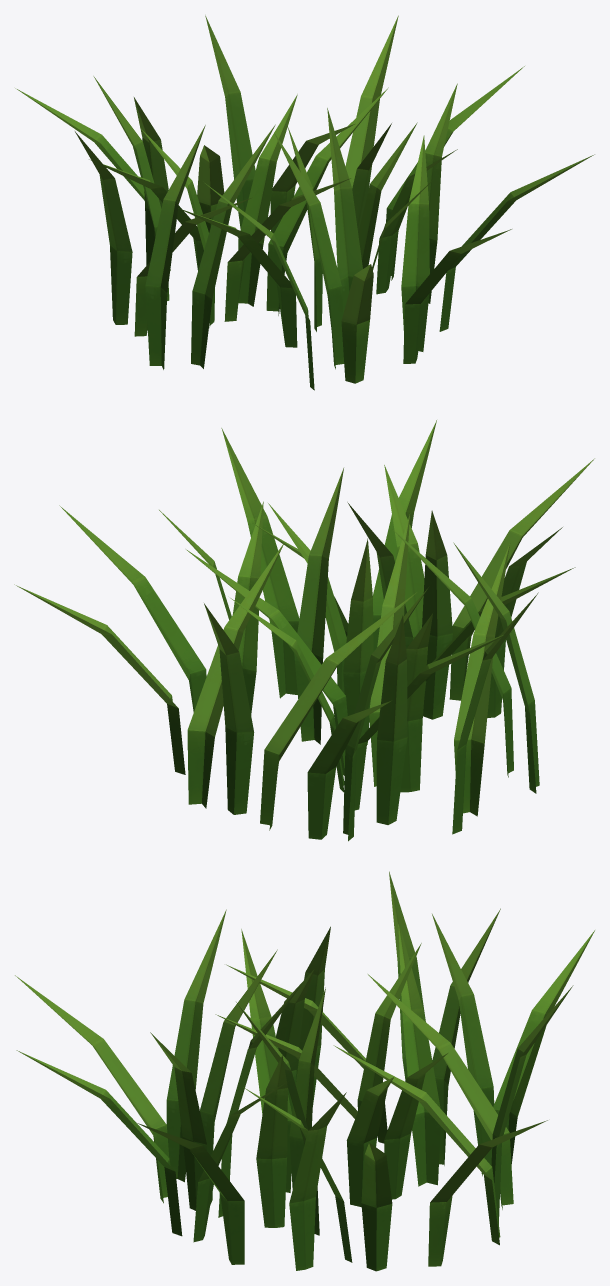
Rendered from GrassLarge1.fbx.
3 renders of one model, top to bottom at view 1: azimuth 30°, elevation 25°; view 2: azimuth 150°, elevation 25°; view 3: azimuth 270°, elevation 25°, orthographic. The views are drawn at different scales.
Visible parts, largest first — view 1: GrassLarge1; view 2: GrassLarge1; view 3: GrassLarge1.
Boxes of the visible parts, x1,y1,x2,y2 form: GrassLarge1: (15, 15, 594, 390); GrassLarge1: (14, 420, 594, 841); GrassLarge1: (15, 871, 594, 1271).
Size of the model in its own units: 1.29 by 0.6096 by 1.36.
1 material, 1 textured.
